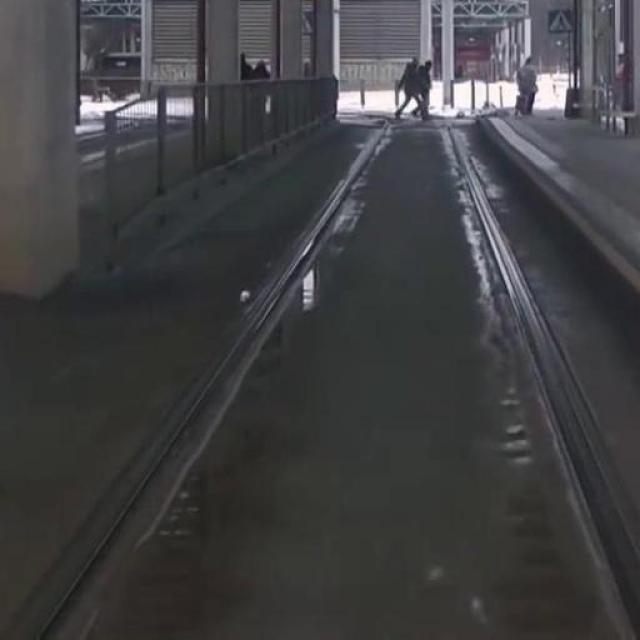people: (392, 53, 422, 122), (513, 51, 542, 122), (417, 58, 436, 120)
